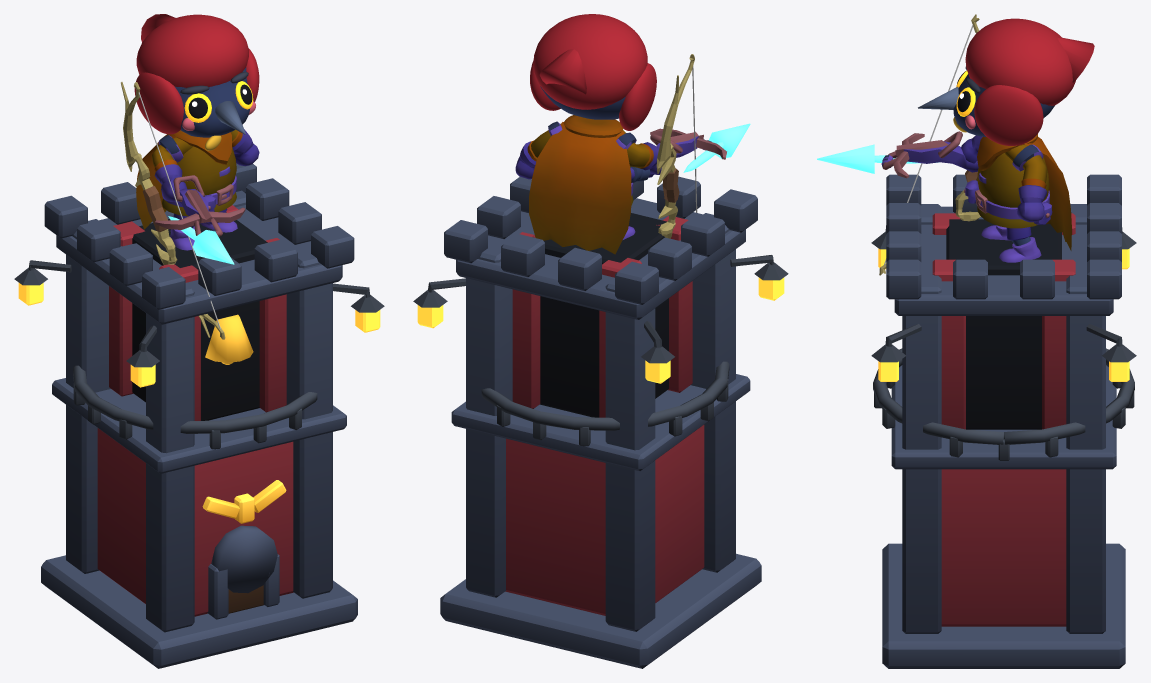
Rendered from tower_falcon_t2.glb.
The picture shows the model from 3 angles, left to right: view 1: azimuth 30°, elevation 25°; view 2: azimuth 150°, elevation 25°; view 3: azimuth 270°, elevation 25°; orthographic projection. The views are drawn at different scales.
Visible parts, largest first — view 1: CustomTowerBase_falcon_t2, NativeHat_RvHoodTop, Rogue_Body, Bow_Golden, NativeHat_RvHoodFlap_-1, 1H_Crossbow, RvHead, Rogue_ArmRight, RavenLightningTip, Rogue_Cape, Rogue_ArmLeft, RvBeak; view 2: CustomTowerBase_falcon_t2, Rogue_Cape, NativeHat_RvHoodTop, Bow_Golden, NativeHat_RvHoodFlap_-1, 1H_Crossbow, NativeHat_RvHoodPeak, Rogue_Body, Rogue_ArmRight, Rogue_ArmLeft, RvHead, RavenLightningTip; view 3: CustomTowerBase_falcon_t2, NativeHat_RvHoodTop, Rogue_Body, NativeHat_RvHoodFlap_1, 1H_Crossbow, Rogue_ArmLeft, Rogue_Cape, Rogue_LegLeft, Bow_Golden, RavenLightningTip, NativeHat_RvHoodPeak, RvHead (+1 smaller).
Boxes of the visible parts, box(x1,y1,x2,y2) form: CustomTowerBase_falcon_t2: box(14, 163, 384, 668); NativeHat_RvHoodTop: box(136, 14, 248, 87); Rogue_Body: box(162, 130, 236, 216); Bow_Golden: box(121, 82, 225, 339); NativeHat_RvHoodFlap_-1: box(134, 72, 183, 134); 1H_Crossbow: box(155, 175, 245, 236); RvHead: box(174, 67, 250, 137); Rogue_ArmRight: box(151, 135, 192, 201); RavenLightningTip: box(193, 230, 234, 264); Rogue_Cape: box(136, 134, 175, 229); Rogue_ArmLeft: box(231, 129, 259, 166); RvBeak: box(215, 101, 245, 134); CustomTowerBase_falcon_t2: box(413, 176, 788, 668); Rogue_Cape: box(529, 122, 631, 254); NativeHat_RvHoodTop: box(533, 14, 647, 109); Bow_Golden: box(656, 54, 697, 238); NativeHat_RvHoodFlap_-1: box(619, 63, 656, 130); 1H_Crossbow: box(630, 128, 726, 182); NativeHat_RvHoodPeak: box(539, 49, 586, 94); Rogue_Body: box(563, 115, 633, 205); Rogue_ArmRight: box(616, 130, 661, 174); Rogue_ArmLeft: box(515, 121, 562, 179); RvHead: box(540, 86, 625, 119); RavenLightningTip: box(708, 123, 750, 158); CustomTowerBase_falcon_t2: box(871, 174, 1136, 668); NativeHat_RvHoodTop: box(965, 18, 1075, 105); Rogue_Body: box(964, 134, 1052, 228); NativeHat_RvHoodFlap_1: box(974, 85, 1043, 145); 1H_Crossbow: box(881, 131, 978, 178); Rogue_ArmLeft: box(1005, 144, 1047, 222); Rogue_Cape: box(1025, 136, 1071, 250); Rogue_LegLeft: box(999, 227, 1041, 262); Bow_Golden: box(879, 14, 980, 275); RavenLightningTip: box(817, 144, 874, 173); NativeHat_RvHoodPeak: box(1057, 37, 1094, 82); RvHead: box(953, 74, 1054, 136).
Size of the model in its own units: 0.9784 by 2.16 by 1.05.
15 materials, 3 textured.
